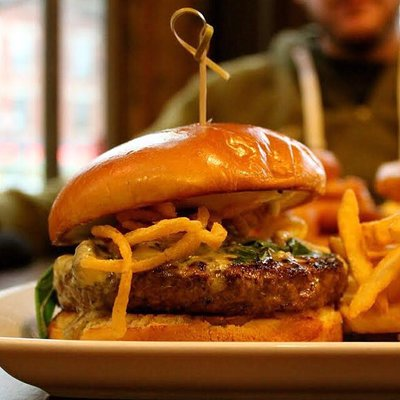soup: (39, 122, 387, 347)
